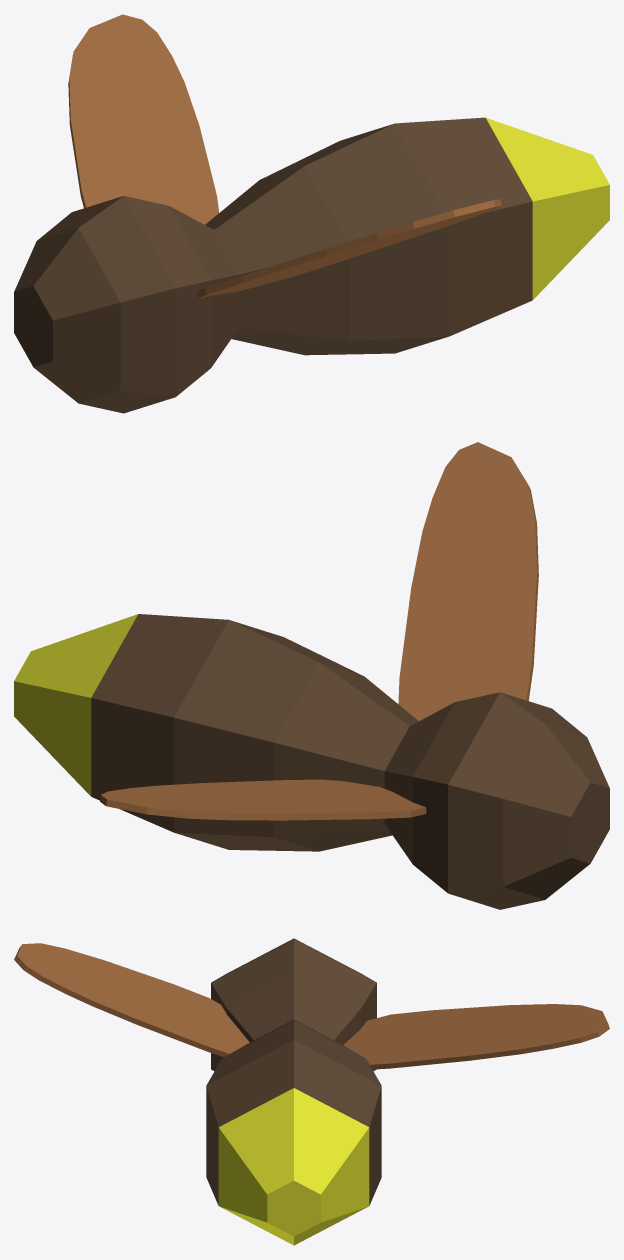
Rendered from Env_Kunang_01a.fbx.
3 views of the same model, one above another, from view 1: azimuth 30°, elevation 25°; view 2: azimuth 150°, elevation 25°; view 3: azimuth 270°, elevation 25° (orthographic). The views are drawn at different scales.
Parts seen in each view (by area): view 1: Kunang; view 2: Kunang; view 3: Kunang.
Boxes of the visible parts, <box> form: Kunang: <box>14,14,609,413</box>; Kunang: <box>14,442,609,909</box>; Kunang: <box>14,938,609,1245</box>.
Size of the model in its own units: 51.32 by 26.2 by 59.34.
